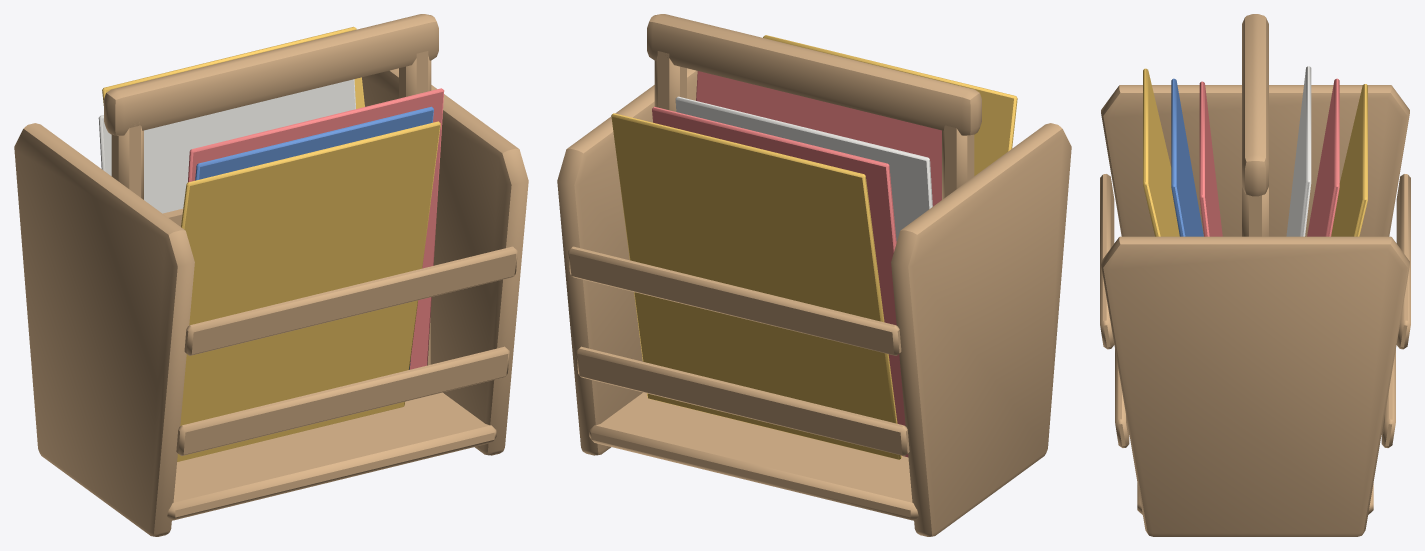
File: magazine_rack.glb
3 views of the same model, side by side, from view 1: azimuth 30°, elevation 25°; view 2: azimuth 150°, elevation 25°; view 3: azimuth 270°, elevation 25° (orthographic). The views are drawn at different scales.
Visible parts, largest first — view 1: oak, butter, white, coral, blue; view 2: oak, butter, coral, white; view 3: oak, butter, coral, blue, white.
Boxes of the visible parts, box(x1,y1,x2,y2) form: oak: box(14, 14, 528, 536); butter: box(102, 26, 440, 461); white: box(98, 79, 355, 213); coral: box(188, 88, 444, 369); blue: box(195, 106, 433, 369); oak: box(557, 14, 1071, 536); butter: box(611, 35, 1017, 459); coral: box(652, 71, 941, 457); white: box(675, 96, 932, 241); oak: box(1100, 14, 1410, 536); butter: box(1143, 68, 1367, 236); coral: box(1199, 78, 1339, 236); blue: box(1171, 78, 1203, 236); white: box(1286, 66, 1311, 236).
Bounding box in the file's own units: 0.42 × 0.455 × 0.3423.
